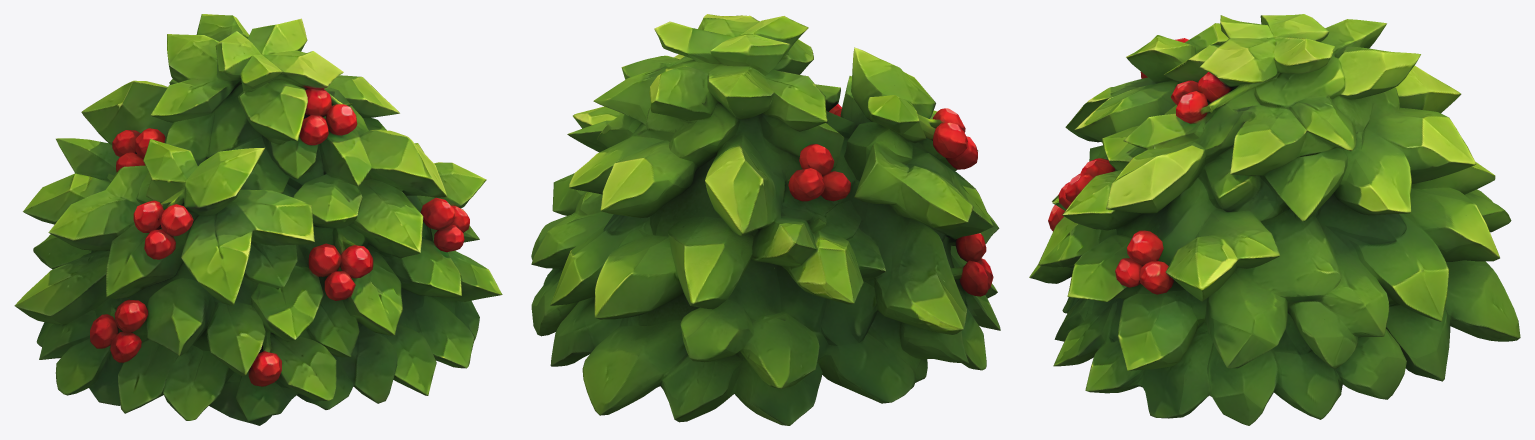
File: bush.glb
3 views of the same model, side by side, from view 1: azimuth 30°, elevation 25°; view 2: azimuth 150°, elevation 25°; view 3: azimuth 270°, elevation 25° (orthographic). The views are drawn at different scales.
Parts seen in each view (by area): view 1: model; view 2: model; view 3: model.
Part boxes in pixels (bbox=[...]): model: bbox=[14, 14, 502, 425]; model: bbox=[531, 14, 1000, 425]; model: bbox=[1029, 14, 1520, 425].
Size of the model in its own units: 1.91 by 1.31 by 1.79.
Materials: 1 (1 with a texture image).
